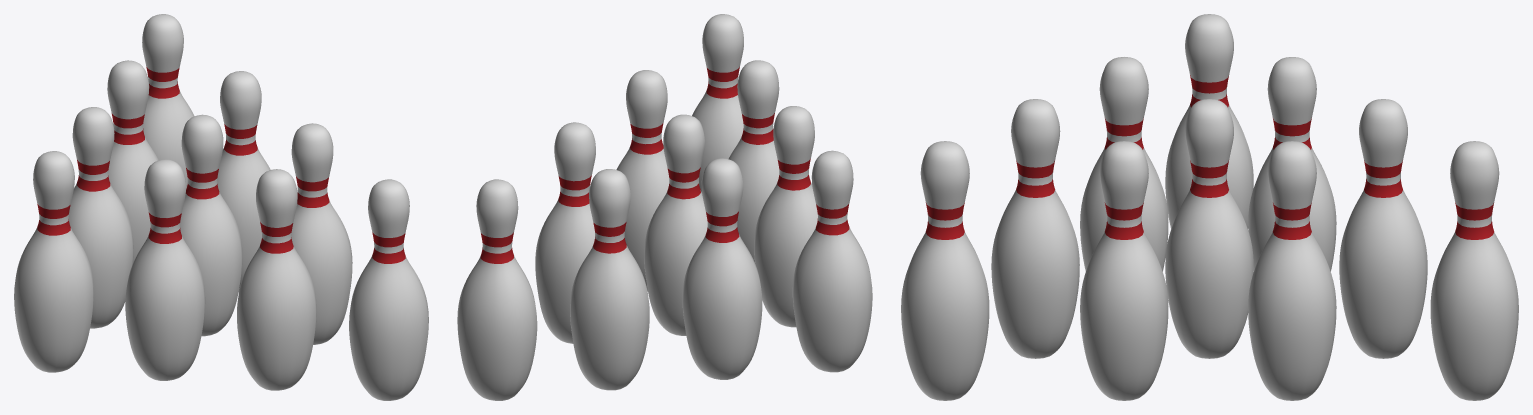
The model's file is Bowling Pins.fbx.
The picture shows the model from 3 angles, left to right: view 1: azimuth 30°, elevation 25°; view 2: azimuth 150°, elevation 25°; view 3: azimuth 270°, elevation 25°; orthographic projection. The views are drawn at different scales.
Parts seen in each view (by area): view 1: Cube.001, Cube.004, Cube, Cube.007, Cube.010, Cube.002, Cube.006, Cube.005, Cube.003, Cube.008; view 2: Cube.010, Cube, Cube.008, Cube.003, Cube.002, Cube.001, Cube.005, Cube.006, Cube.004, Cube.007; view 3: Cube.007, Cube.008, Cube.006, Cube.005, Cube.003, Cube.004, Cube.002, Cube.001, Cube, Cube.010.
Part boxes in pixels (left/top/right/bottom): Cube.001: left=125, top=159, right=205, bottom=380; Cube.004: left=237, top=169, right=316, bottom=390; Cube: left=14, top=151, right=93, bottom=372; Cube.007: left=349, top=179, right=428, bottom=400; Cube.010: left=68, top=107, right=133, bottom=328; Cube.002: left=180, top=114, right=242, bottom=336; Cube.006: left=291, top=123, right=352, bottom=344; Cube.005: left=217, top=71, right=270, bottom=292; Cube.003: left=107, top=60, right=158, bottom=263; Cube.008: left=142, top=14, right=194, bottom=189; Cube.010: left=682, top=158, right=762, bottom=379; Cube: left=792, top=150, right=872, bottom=372; Cube.008: left=457, top=179, right=537, bottom=400; Cube.003: left=570, top=169, right=649, bottom=390; Cube.002: left=644, top=114, right=707, bottom=335; Cube.001: left=754, top=106, right=817, bottom=327; Cube.005: left=535, top=122, right=595, bottom=343; Cube.006: left=616, top=70, right=669, bottom=291; Cube.004: left=728, top=60, right=779, bottom=263; Cube.007: left=692, top=14, right=743, bottom=192; Cube.007: left=901, top=141, right=989, bottom=400; Cube.008: left=1430, top=141, right=1518, bottom=400; Cube.006: left=1080, top=141, right=1168, bottom=400; Cube.005: left=1248, top=141, right=1336, bottom=400; Cube.003: left=1339, top=99, right=1427, bottom=358; Cube.004: left=991, top=99, right=1079, bottom=358; Cube.002: left=1165, top=99, right=1253, bottom=358; Cube.001: left=1080, top=57, right=1168, bottom=271; Cube: left=1165, top=14, right=1253, bottom=228; Cube.010: left=1248, top=57, right=1336, bottom=271.
Bounding box in the file's own units: 1513 × 1062 × 2368.
